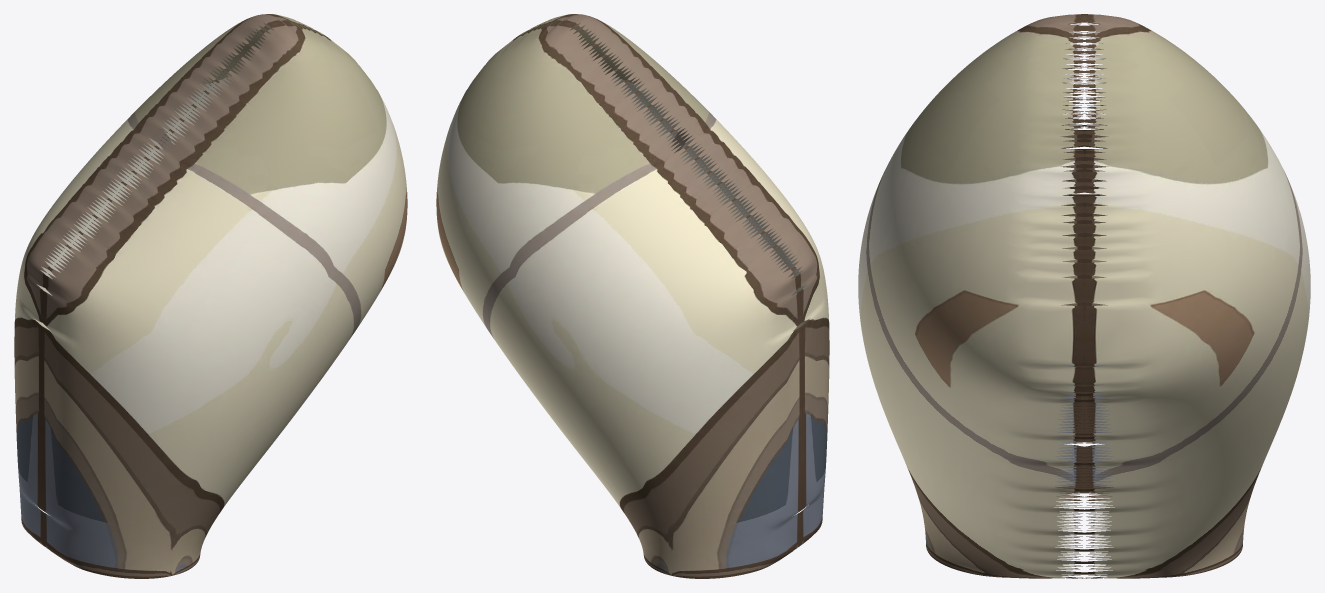
File: upper_side_wall.glb
3 views of the same model, side by side, from view 1: azimuth 30°, elevation 25°; view 2: azimuth 150°, elevation 25°; view 3: azimuth 270°, elevation 25° (orthographic). The views are drawn at different scales.
Parts seen in each view (by area): view 1: upper_side_wall; view 2: upper_side_wall; view 3: upper_side_wall.
Boxes of the visible parts, bbox=[...] form: upper_side_wall: bbox=[14, 14, 407, 578]; upper_side_wall: bbox=[436, 14, 829, 578]; upper_side_wall: bbox=[858, 14, 1310, 578].
Bounding box in the file's own units: 0.9857 × 1.29 × 0.8343.
1 material, 1 textured.
